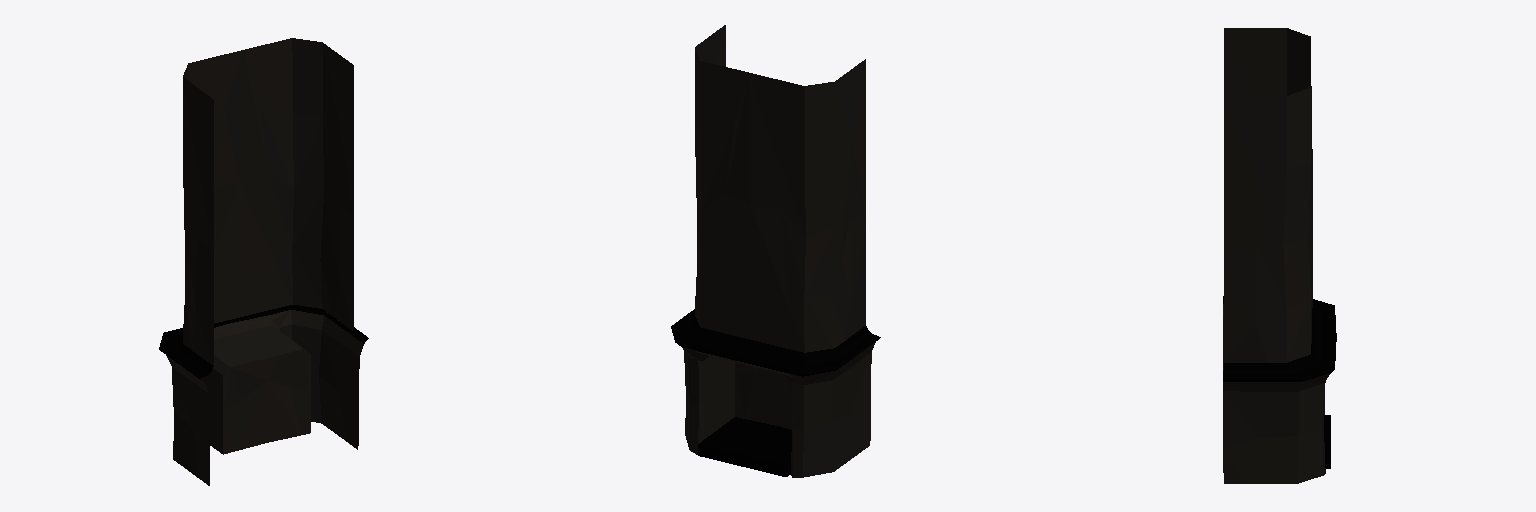
The model's file is Fireplace.obj.
3 views of the same model, side by side, from view 1: azimuth 30°, elevation 25°; view 2: azimuth 150°, elevation 25°; view 3: azimuth 270°, elevation 25° (orthographic).
Visible parts, largest first — view 1: Fireplace_Cube.001; view 2: Fireplace_Cube.001; view 3: Fireplace_Cube.001.
Part boxes in pixels (x1,y1,x2,y2): Fireplace_Cube.001: (159,38,368,485); Fireplace_Cube.001: (671,25,880,477); Fireplace_Cube.001: (1223,28,1336,483).
Bounding box in the file's own units: 1.52 × 3.32 × 0.8787.